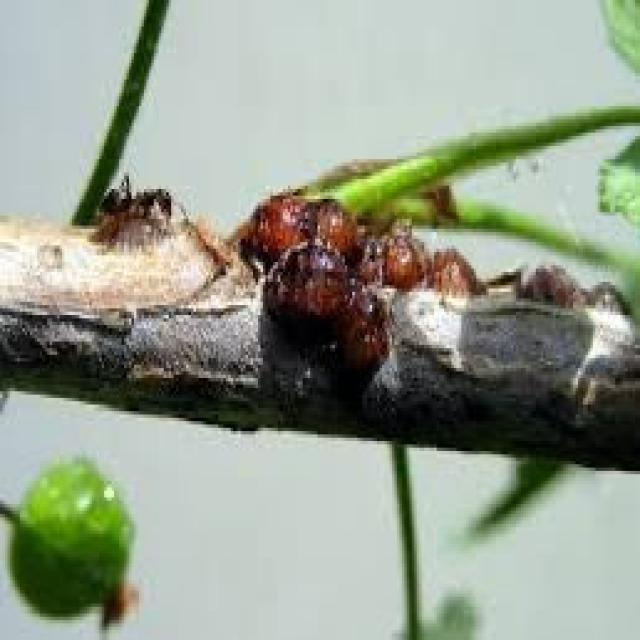Black Scale: (243, 192, 484, 411), (516, 265, 630, 315)
